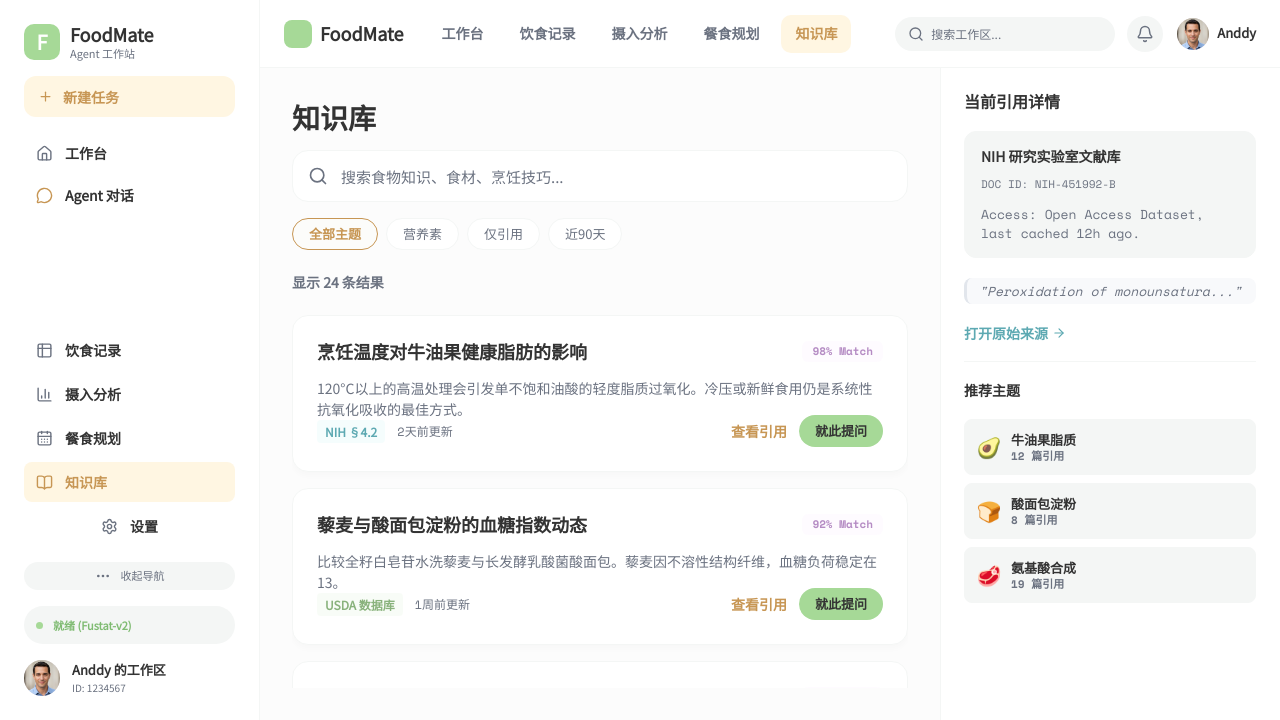
KnowledgePage › recovers from an empty result state by clearing the search
Type "不存在的营养内容" into the field labelled "搜索食物知识、食材、烹饪技巧" at (600, 176), box [292, 150, 908, 202]
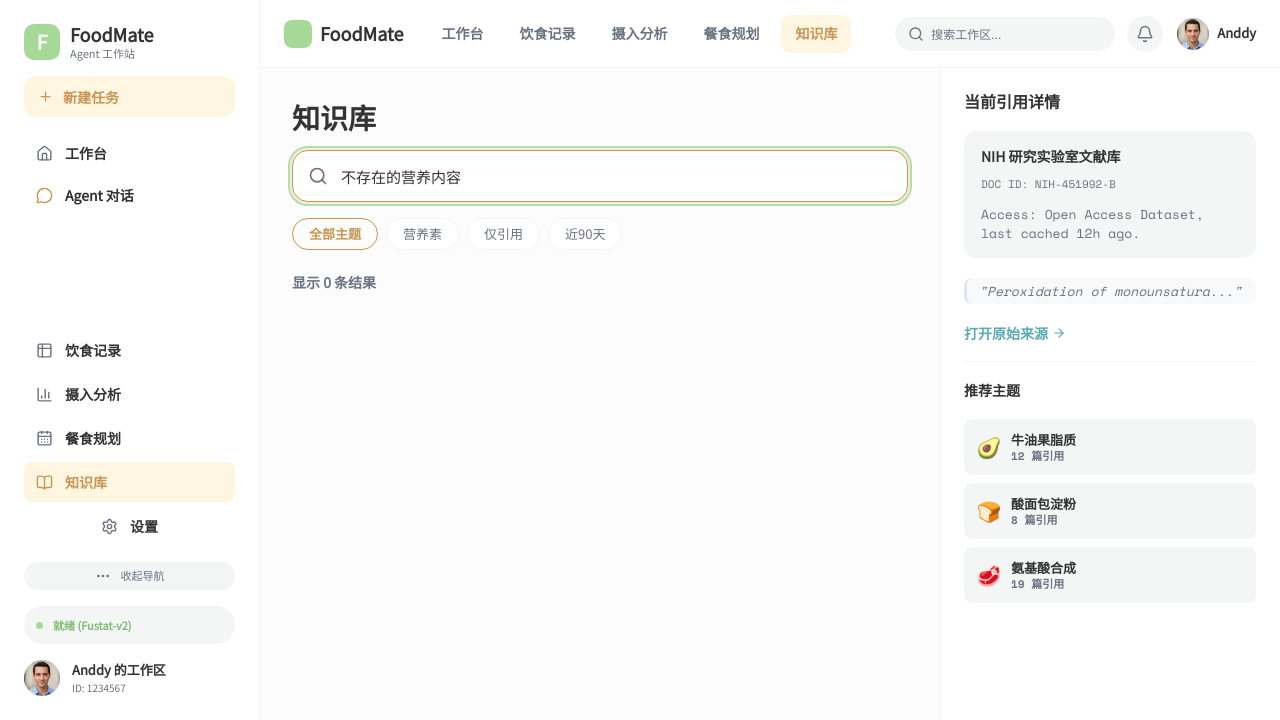
Press Enter
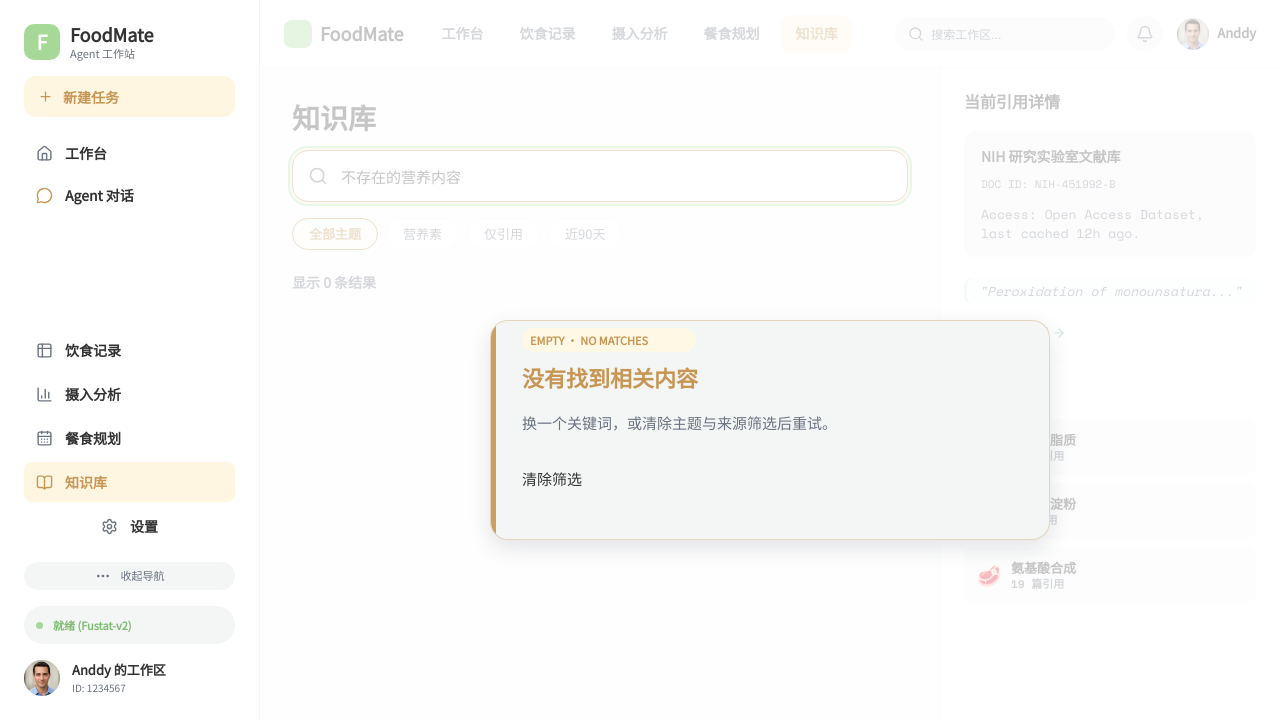
expect the message shows "没有找到相关内容": met, box [522, 361, 698, 393]
Click the button "清除筛选" at (552, 479), box [522, 470, 582, 488]
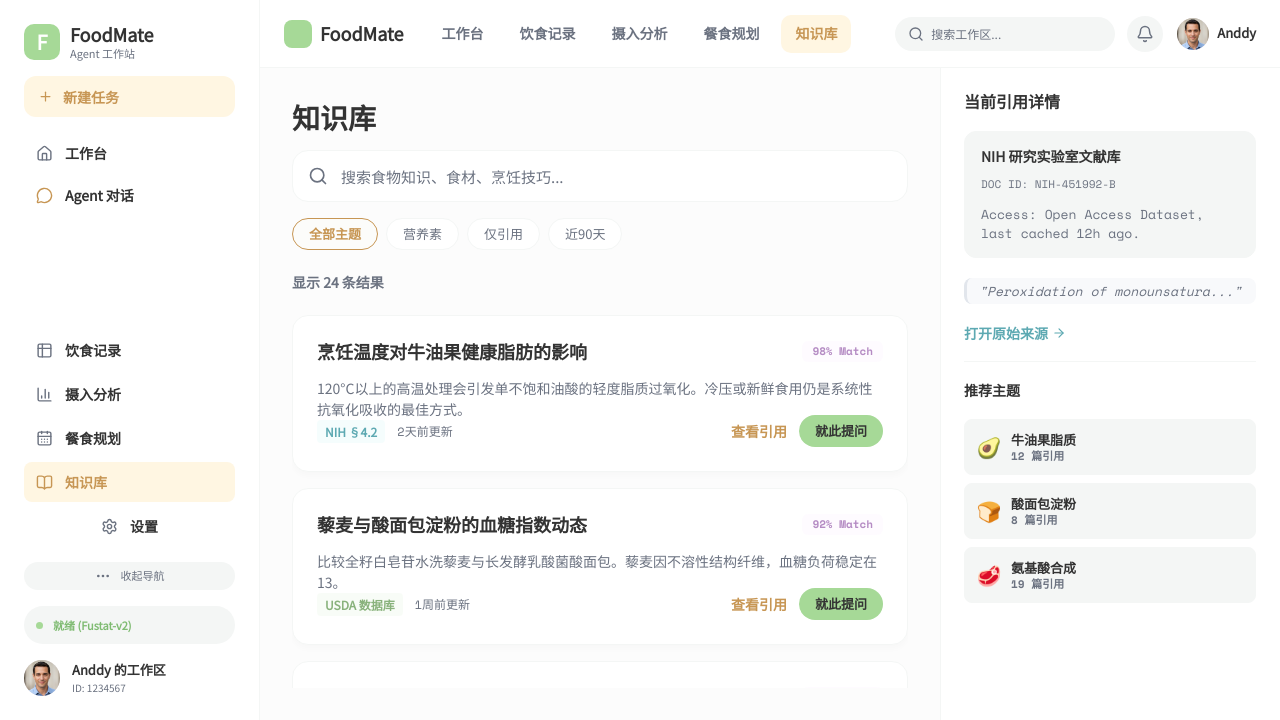
expect the message "EMPTY · NO MATCHES 没有找到相关内容 换一个关键词，或清除主题与来源筛选后重试。 清除筛选" is gone: met
expect the text "显示 24 条结果" is shown: met, box [292, 272, 384, 292]
